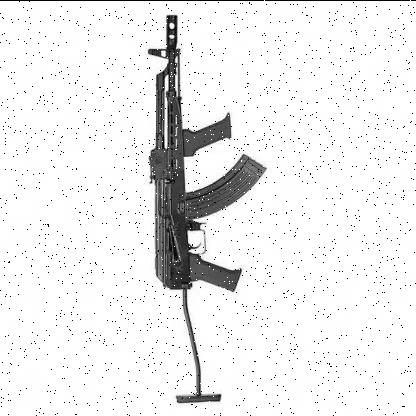rifle: (114, 9, 273, 401)
